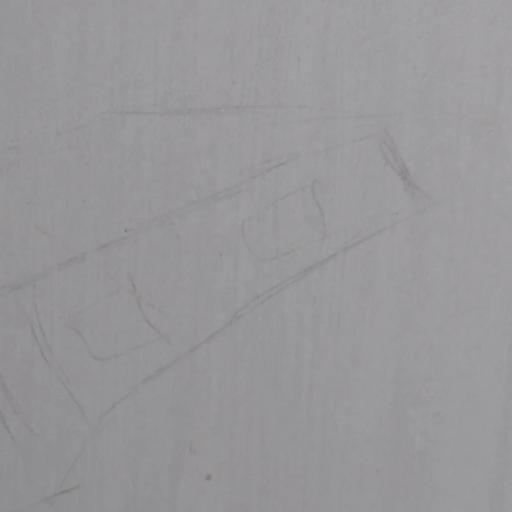stain: (0, 78, 448, 512)
